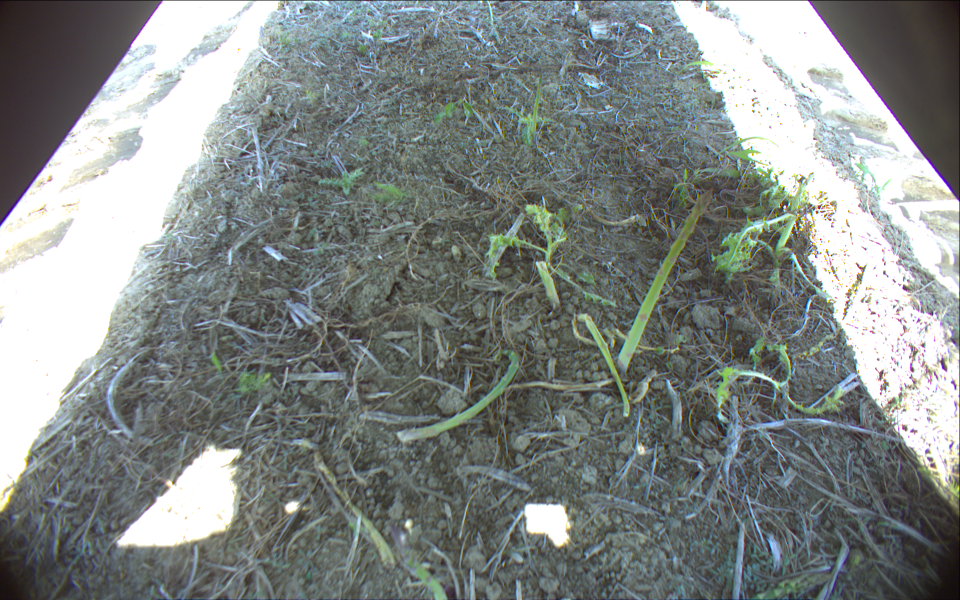aspa: (617, 189, 713, 380), (397, 349, 519, 446), (304, 443, 392, 569), (576, 311, 630, 420), (390, 522, 448, 600), (536, 261, 560, 309), (530, 66, 543, 143), (484, 1, 496, 32)
